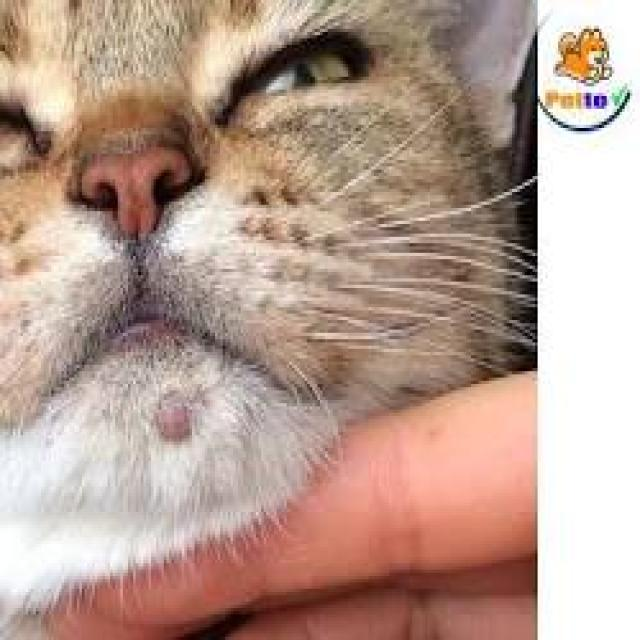cat-acne: (157, 390, 194, 443)
